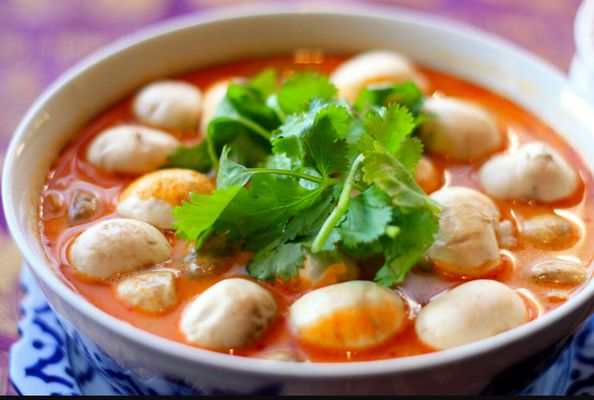sushi: (20, 39, 594, 393)
